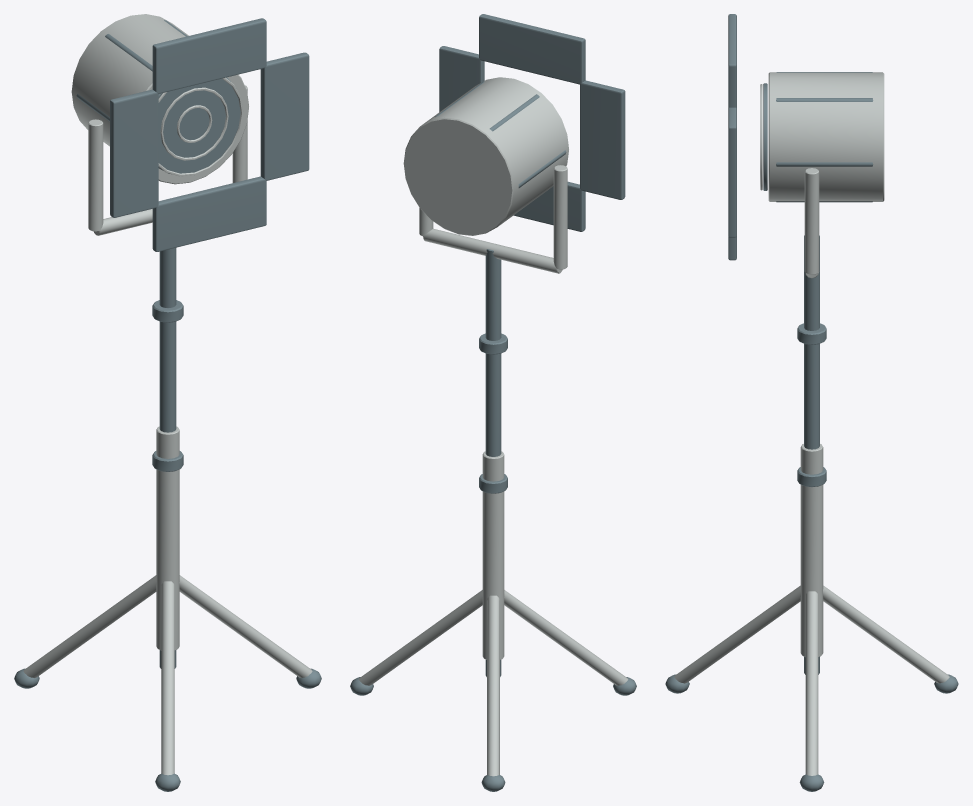
The model's file is film-light.glb.
3 renders of one model, left to right at view 1: azimuth 30°, elevation 25°; view 2: azimuth 150°, elevation 25°; view 3: azimuth 270°, elevation 25°, orthographic. The views are drawn at different scales.
Visible parts, largest first — view 1: fresnel_body, barn_door_side.001, barn_door_top_bottom.001, barn_door_side, barn_door_top_bottom, fresnel_lens, lower_stand, telescoping_stand, tripod_leg_1, tripod_leg_0, tripod_leg_2, lamp_yoke (+4 smaller); view 2: fresnel_body, barn_door_side, barn_door_top_bottom.001, lower_stand, telescoping_stand, tripod_leg_2, barn_door_side.001, tripod_leg_0, tripod_leg_1, yoke_crossbar, barn_door_top_bottom, lamp_yoke; view 3: fresnel_body, lower_stand, telescoping_stand, tripod_leg_0, tripod_leg_1, tripod_leg_2, lamp_yoke.001, barn_door_side.001, barn_door_top_bottom.001, fresnel_lens.
Part boxes in pixels (x1=…): fresnel_body: x1=71, y1=14, x2=248, y2=184; barn_door_side.001: x1=260, y1=52, x2=309, y2=180; barn_door_top_bottom.001: x1=152, y1=18, x2=266, y2=93; barn_door_side: x1=110, y1=89, x2=158, y2=217; barn_door_top_bottom: x1=152, y1=176, x2=266, y2=251; fresnel_lens: x1=158, y1=77, x2=240, y2=173; lower_stand: x1=156, y1=426, x2=179, y2=650; telescoping_stand: x1=159, y1=247, x2=176, y2=668; tripod_leg_1: x1=161, y1=581, x2=174, y2=775; tripod_leg_0: x1=179, y1=575, x2=312, y2=677; tripod_leg_2: x1=23, y1=575, x2=156, y2=677; lamp_yoke: x1=88, y1=119, x2=103, y2=231; fresnel_body: x1=403, y1=77, x2=568, y2=235; barn_door_side: x1=580, y1=80, x2=625, y2=199; barn_door_top_bottom.001: x1=479, y1=14, x2=585, y2=84; lower_stand: x1=482, y1=451, x2=504, y2=659; telescoping_stand: x1=485, y1=249, x2=501, y2=676; tripod_leg_2: x1=487, y1=595, x2=499, y2=776; barn_door_side.001: x1=439, y1=46, x2=484, y2=111; tripod_leg_0: x1=358, y1=590, x2=482, y2=685; tripod_leg_1: x1=504, y1=590, x2=628, y2=685; yoke_crossbar: x1=423, y1=228, x2=562, y2=273; barn_door_top_bottom: x1=513, y1=181, x2=585, y2=231; lamp_yoke: x1=553, y1=165, x2=567, y2=269; fresnel_body: x1=768, y1=72, x2=884, y2=201; lower_stand: x1=800, y1=444, x2=823, y2=656; telescoping_stand: x1=804, y1=235, x2=819, y2=674; tripod_leg_0: x1=805, y1=591, x2=818, y2=775; tripod_leg_1: x1=674, y1=585, x2=800, y2=683; tripod_leg_2: x1=823, y1=585, x2=949, y2=683; lamp_yoke.001: x1=804, y1=168, x2=819, y2=274; barn_door_side.001: x1=728, y1=107, x2=736, y2=237; barn_door_top_bottom.001: x1=728, y1=14, x2=736, y2=107; fresnel_lens: x1=763, y1=83, x2=767, y2=190.
Size of the model in its own units: 0.764 by 2.1 by 0.8128.
